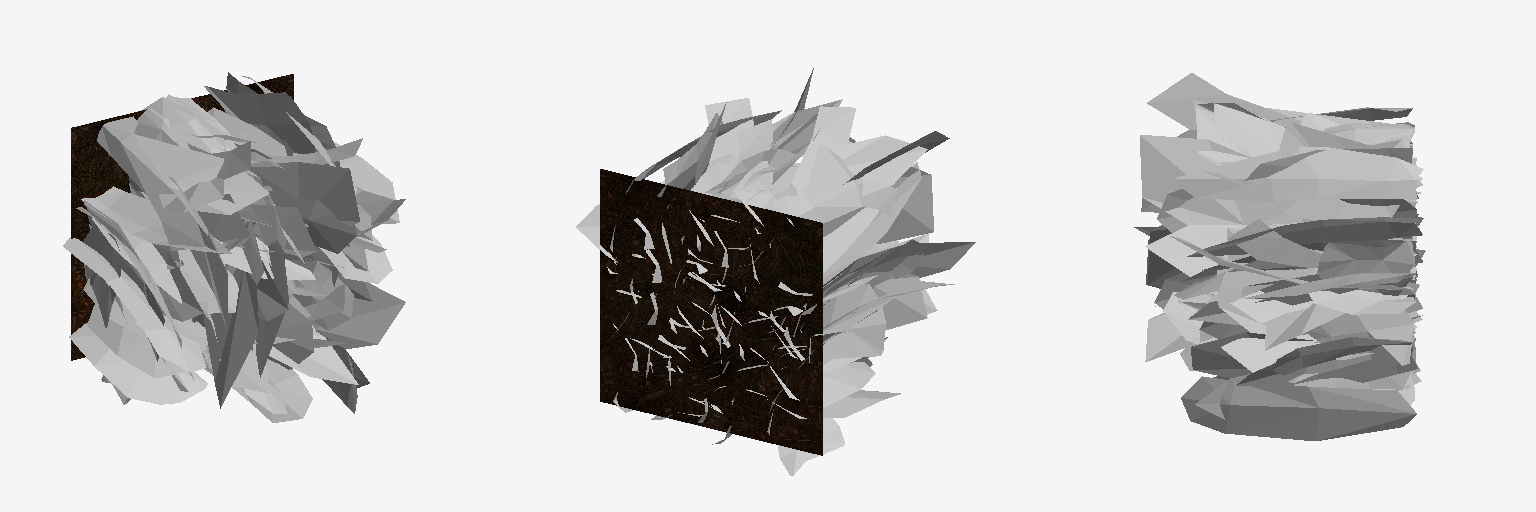
The picture shows the model from 3 angles: view 1: azimuth 30°, elevation 25°; view 2: azimuth 150°, elevation 25°; view 3: azimuth 270°, elevation 25°; orthographic projection.
Parts seen in each view (by area): view 1: grasspatch3_grass1_0, grasspatch1_grass1_0, ground.111, ground.110; view 2: grasspatch3_grass1_0, ground.111, ground.110, grasspatch1_grass1_0; view 3: grasspatch3_grass1_0, grasspatch1_grass1_0.
Part boxes in pixels (x1,y1,x2,y2): grasspatch3_grass1_0: (63, 76, 405, 422); grasspatch1_grass1_0: (69, 72, 405, 408); ground.111: (71, 128, 130, 360); ground.110: (72, 74, 293, 166); grasspatch3_grass1_0: (576, 68, 954, 475); ground.111: (600, 223, 822, 455); ground.110: (600, 169, 821, 400); grasspatch1_grass1_0: (599, 98, 975, 418); grasspatch3_grass1_0: (1134, 73, 1425, 440); grasspatch1_grass1_0: (1146, 106, 1422, 390).
Bounding box in the file's own units: 1.31 × 1.3 × 1.14.
2 materials, 1 textured.